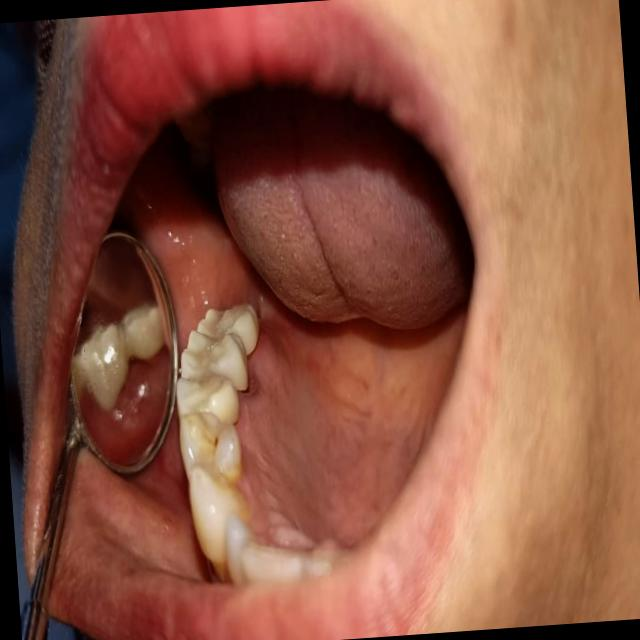No Cancer: (232, 268, 439, 548)
